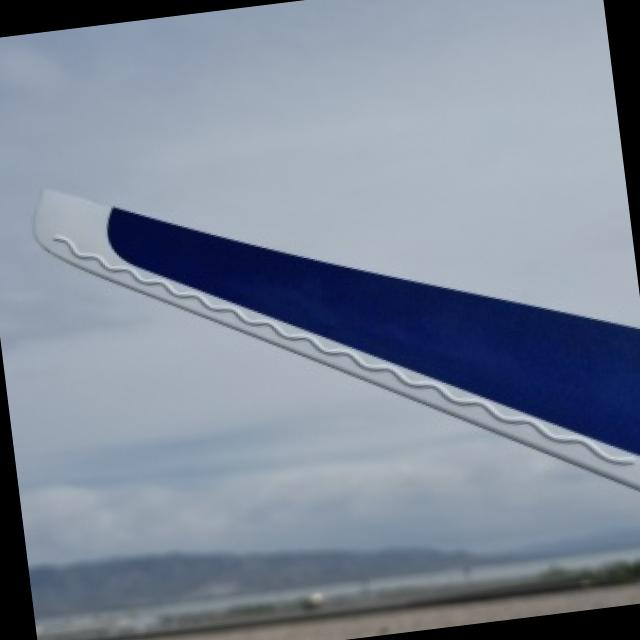healthy: (36, 190, 640, 487)
